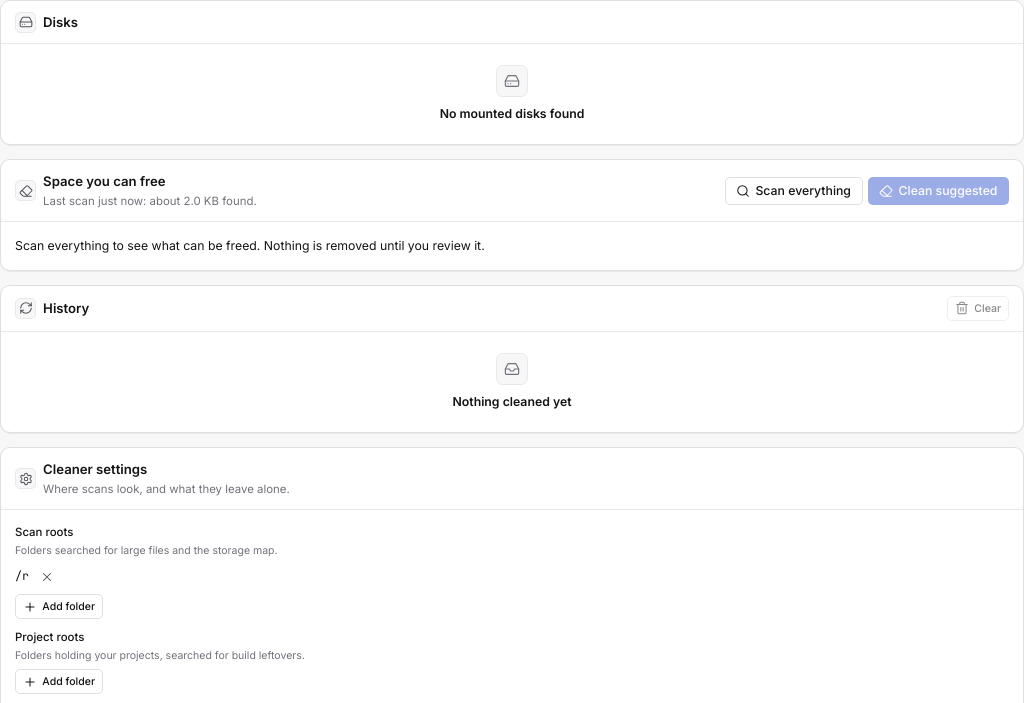
Scenario: overview tab history › saves its results once a scan has finished
What coordinates should you click on to do the following:
click the button "Scan everything"
I would click on:
 (794, 191)
Its box is [725,177,862,205].
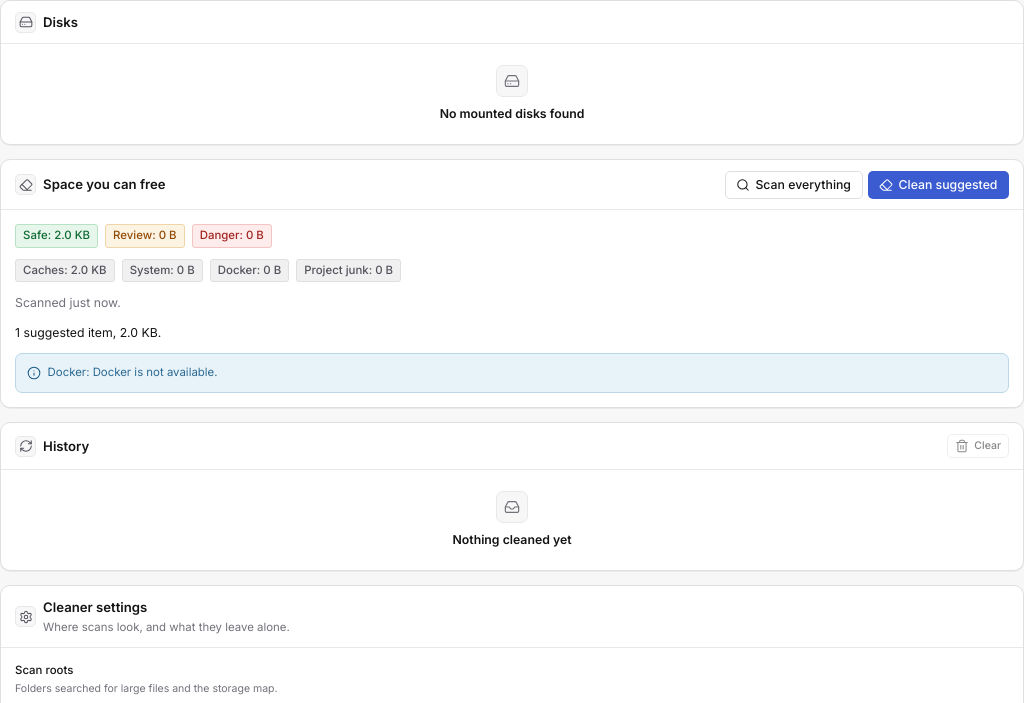
Check: the text "Safe: 2.0 KB" is shown, box [15,224,98,248]
Check: the text "Scanned just now." is shown, box [15,295,121,310]
